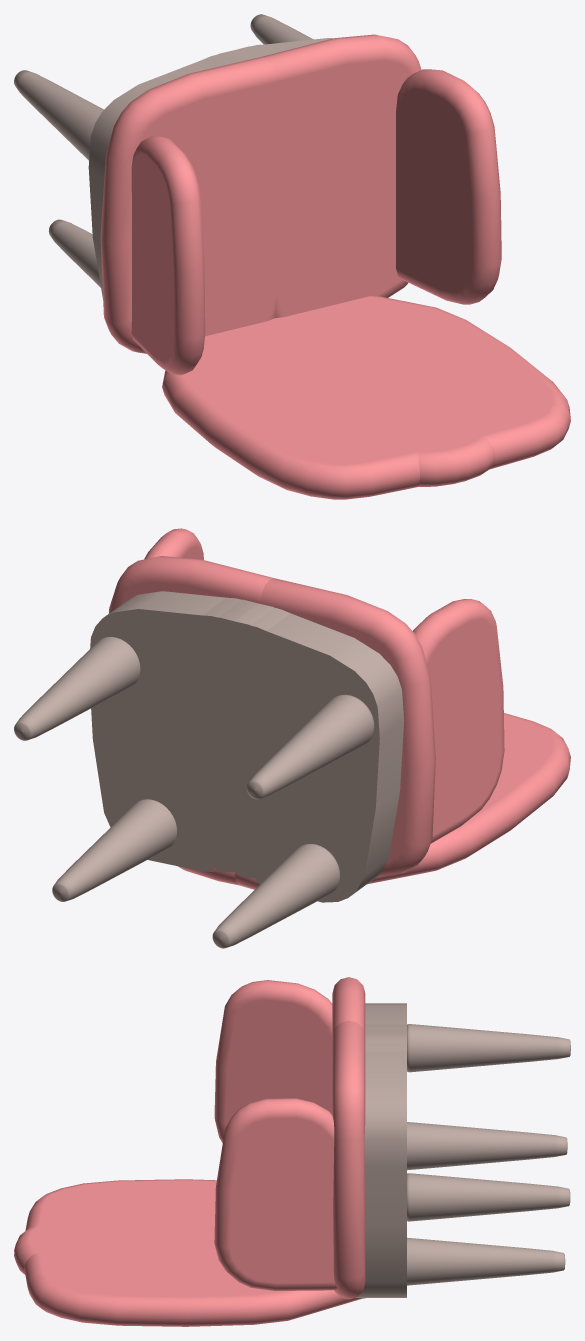
File: Chair6.gltf
3 views of the same model, one above another, from view 1: azimuth 30°, elevation 25°; view 2: azimuth 150°, elevation 25°; view 3: azimuth 270°, elevation 25° (orthographic). The views are drawn at different scales.
Visible parts, largest first — view 1: node-0; view 2: node-0; view 3: node-0.
Boxes of the visible parts, x1,y1,x2,y2 form: node-0: [14, 14, 570, 499]; node-0: [14, 528, 570, 948]; node-0: [14, 977, 570, 1326].
Bounding box in the file's own units: 2.28 × 1.93 × 3.94.
